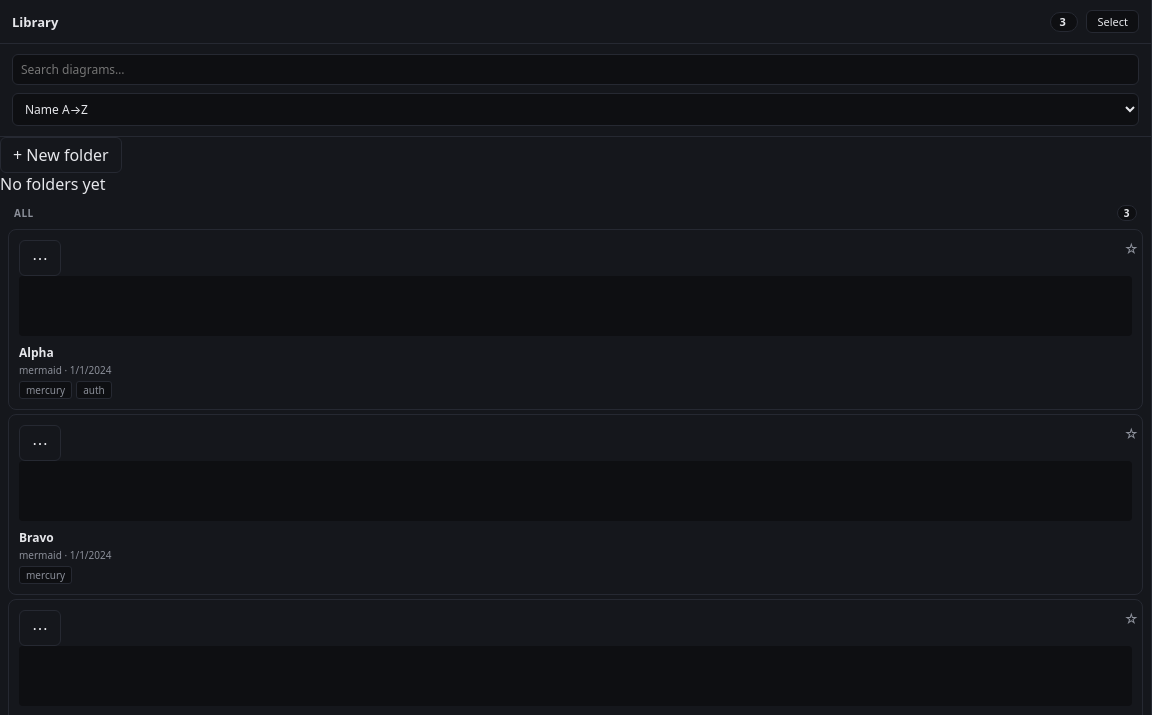
FilterChips (issue #7 F3) › clicking a tag chip on a card adds it to activeTagFilters
Click the button with test id "library-tag-Alpha-mercury" at (46, 390), box x1=19 y1=381 x2=72 y2=399
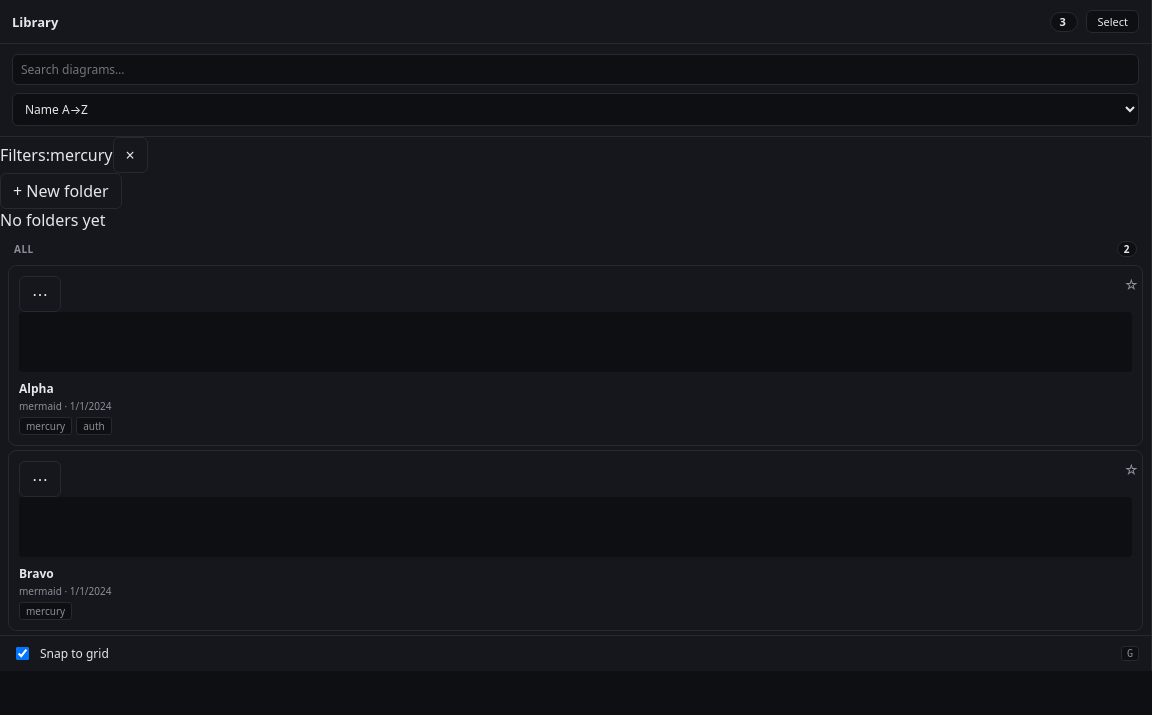
Check: the element with test id "library-filter-chips" is shown, box x1=0 y1=137 x2=148 y2=173
Check: the element with test id "library-filter-chips" shows "mercury", box x1=50 y1=144 x2=112 y2=166
